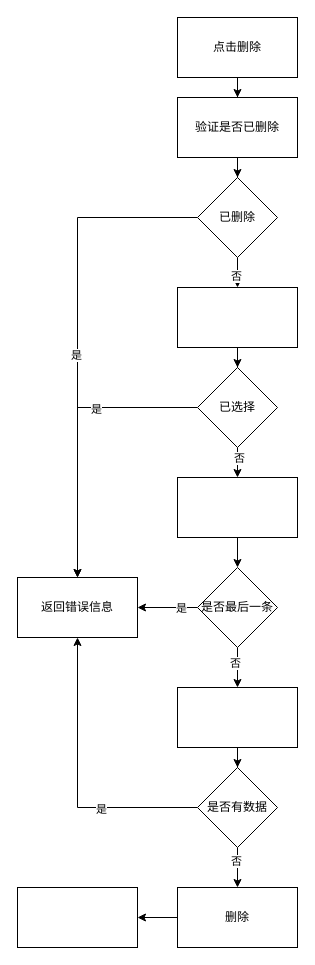
The diagram is 315 pixels wide and 965 high, and some of its shapes have lost their labels. Here are the shapes that lost their labels. From the top down, the box of each, then its label:
(176, 286, 298, 348): 验证是否已被选择
(176, 476, 298, 538): 验证是否最后一条
(176, 686, 298, 748): 验证是否有录制数据
(16, 886, 138, 948): 返回成功
